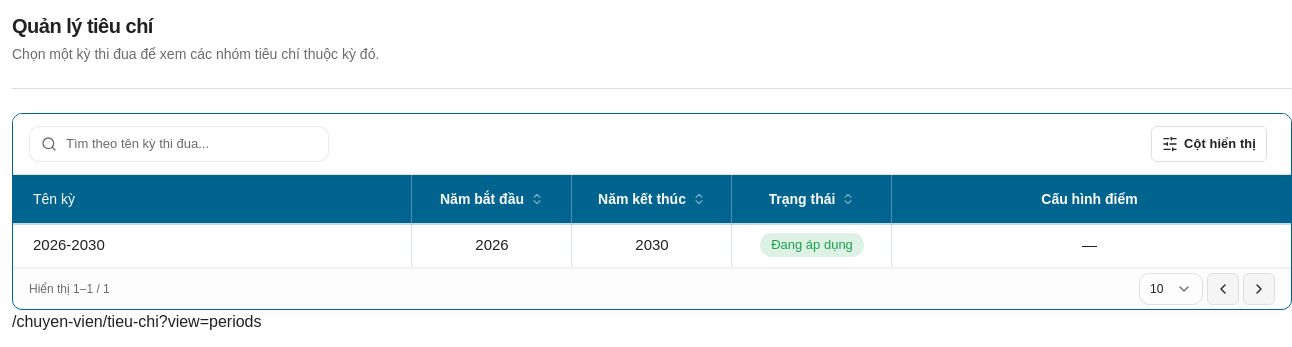
it: CriteriaPeriodSelectionPage › opens the criteria list with the selected period filter
Double-click the text "2026-2030" at (69, 245), box left=33, top=234, right=105, bottom=256
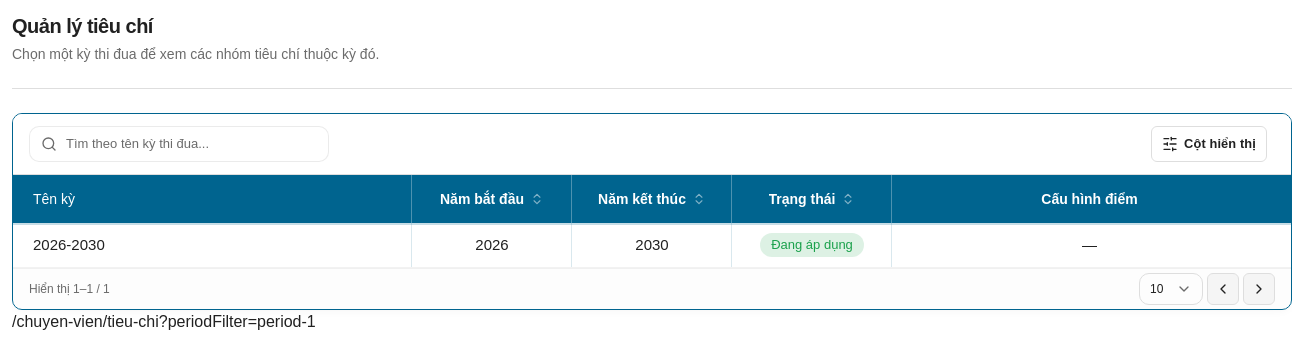
Result: the text with test id "current-location" reads "/chuyen-vien/tieu-chi?periodFilter=period-1" at left=12, top=313, right=316, bottom=330
